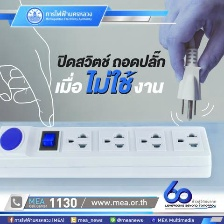three_eye_plug: (0, 124, 214, 183)
